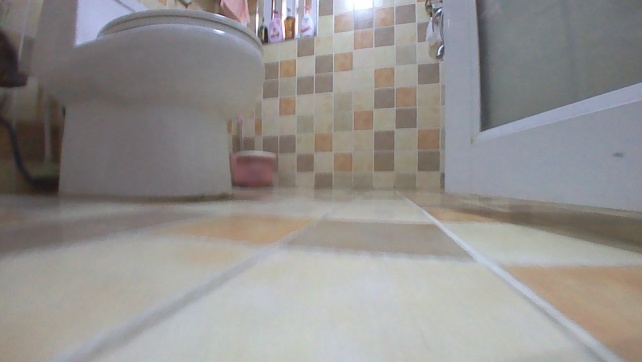toilet: (25, 0, 268, 208)
